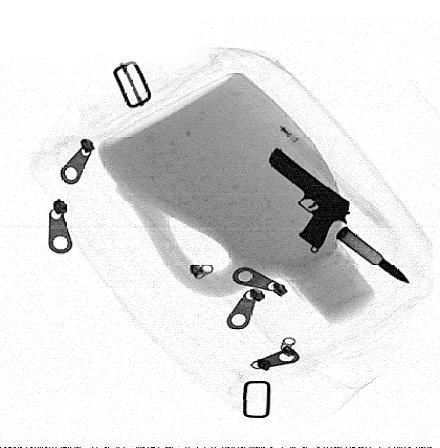Bullet: (335, 228, 410, 283)
Gun: (265, 148, 352, 251)
